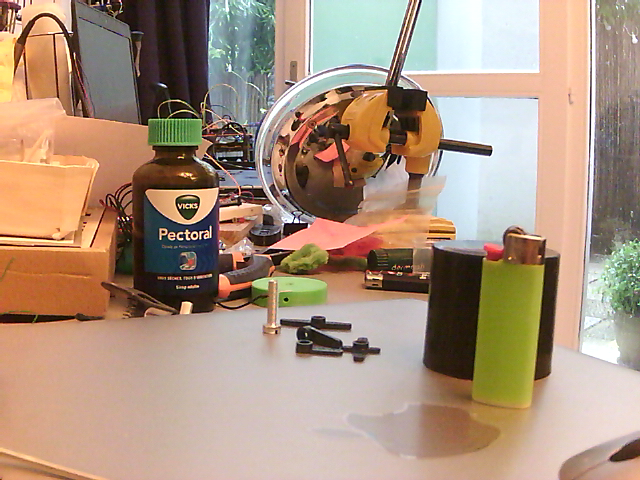bolt: (261, 280, 282, 337)
lighter: (470, 223, 550, 408), (363, 271, 430, 292)
